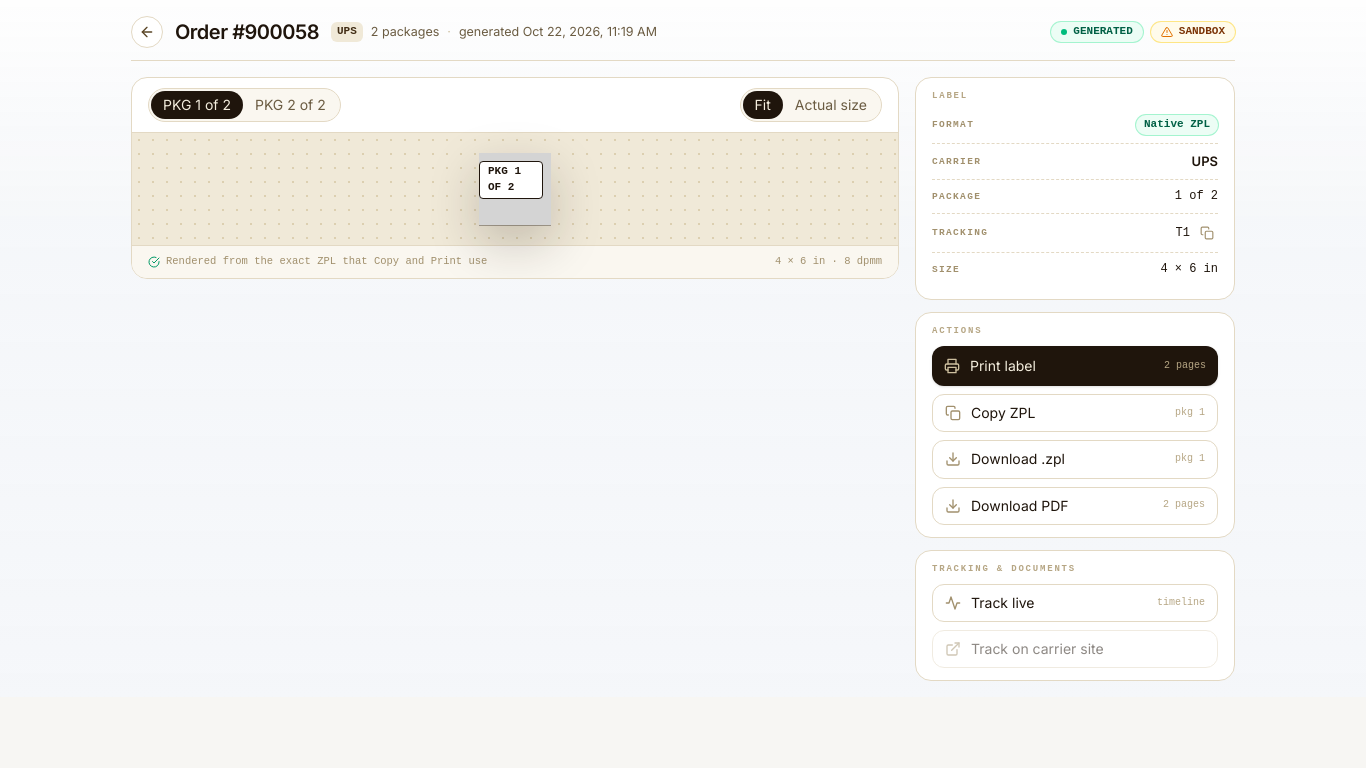
Test: ShipmentLabelPage › multi-package: tabs switch the preview to that package and overlay PKG n OF m
Expected: the heading "Order #900058" is shown, 175,22 -> 319,42
Expected: the text "PKG 1 OF 2" is shown, 479,161 -> 543,199
Click the button "PKG 2 of 2".
click(290, 105)  # box 243,91 -> 338,119
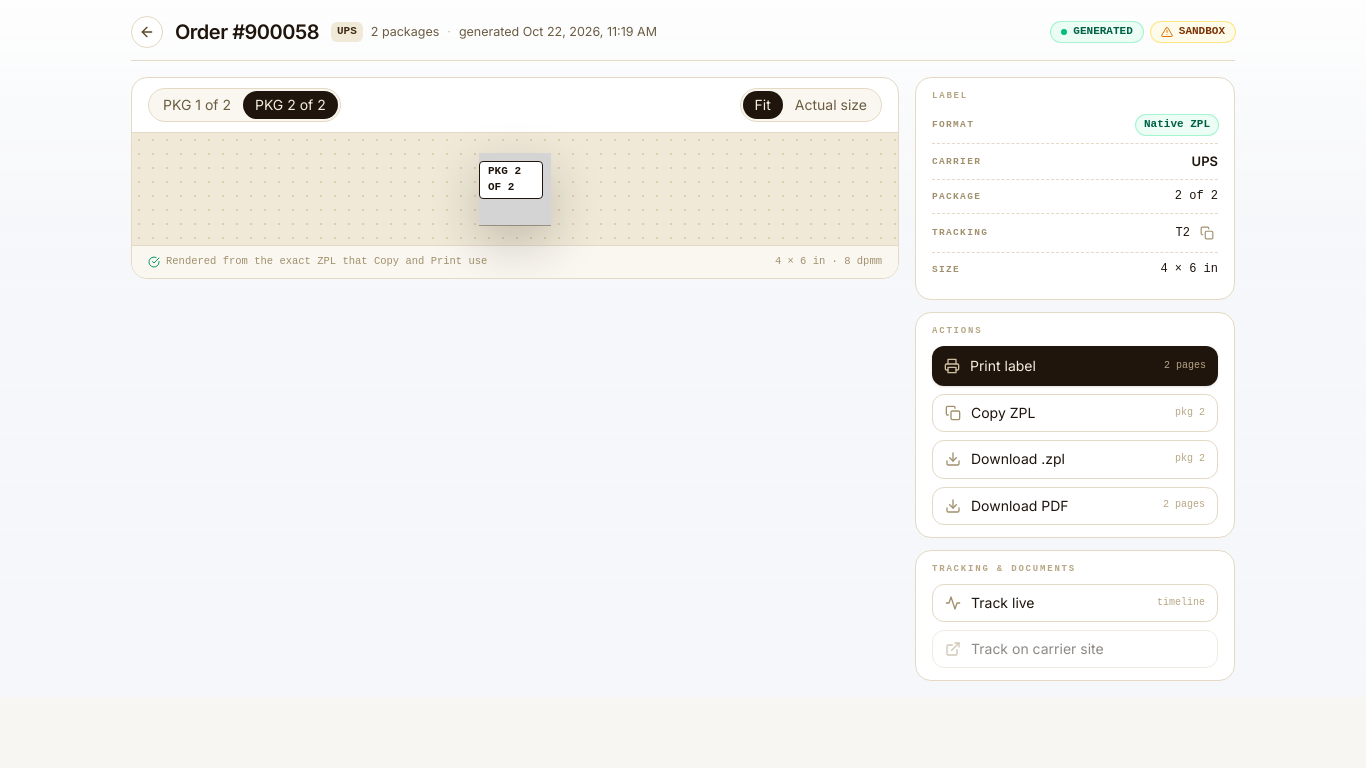
Expected: the text "PKG 2 OF 2" is shown, 479,161 -> 543,199
Expected: the text "T2" is shown, 1176,224 -> 1190,242
